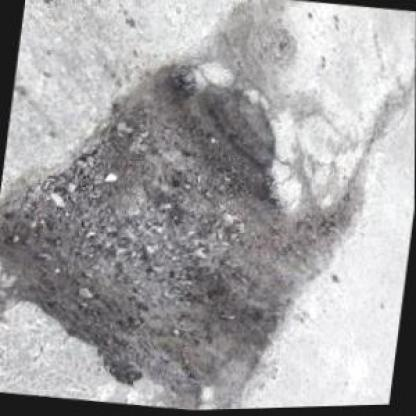pothole: (0, 38, 377, 414)
